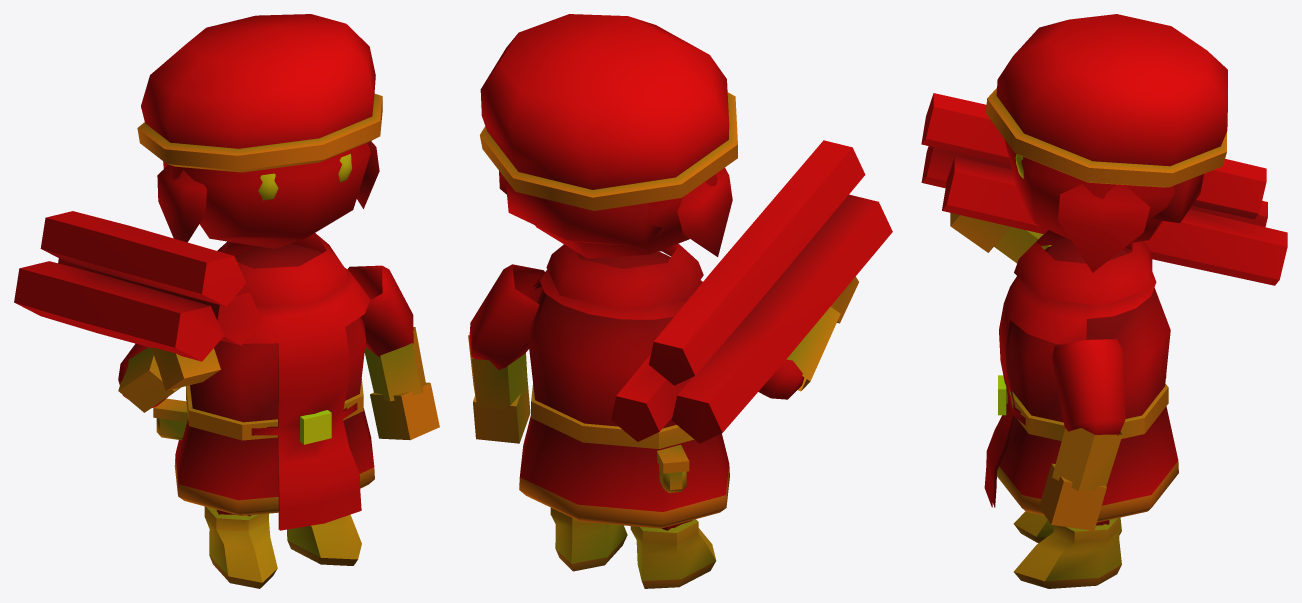
The model's file is Villager_carry_wood_LOD1.glb.
The picture shows the model from 3 angles, left to right: view 1: azimuth 30°, elevation 25°; view 2: azimuth 150°, elevation 25°; view 3: azimuth 270°, elevation 25°; orthographic projection. The views are drawn at different scales.
Visible parts, largest first — view 1: Villager_carry_wood_LOD1; view 2: Villager_carry_wood_LOD1; view 3: Villager_carry_wood_LOD1.
Part boxes in pixels (x1=…): Villager_carry_wood_LOD1: x1=14, y1=14, x2=439, y2=588; Villager_carry_wood_LOD1: x1=468, y1=14, x2=892, y2=588; Villager_carry_wood_LOD1: x1=921, y1=14, x2=1287, y2=588.
Bounding box in the file's own units: 0.5653 × 0.8425 × 0.5336.
